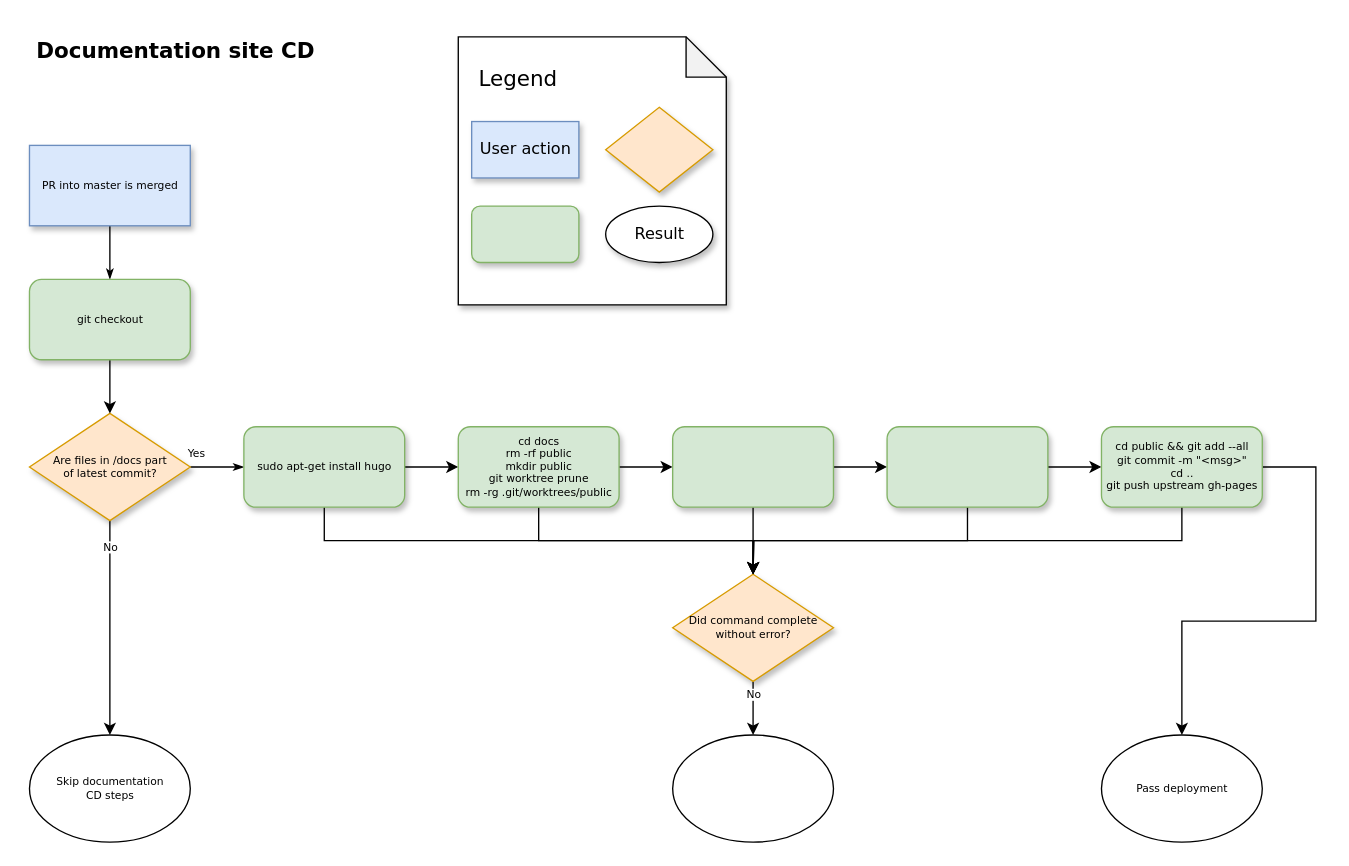
Some shapes in this 1349 by 866 pixel diagram are drawn without their labels. The centre of each missing label's shape, as x and y in pixels:
"Fail deployment" belongs at [752,788].
"git worktree add -B / gh-pages public / upstream/gh-pages rm -rf public/*" belongs at [754,468].
"hugo" belongs at [968,468].
"Pipeline check" belongs at [660,151].
"Script" belongs at [526,235].
